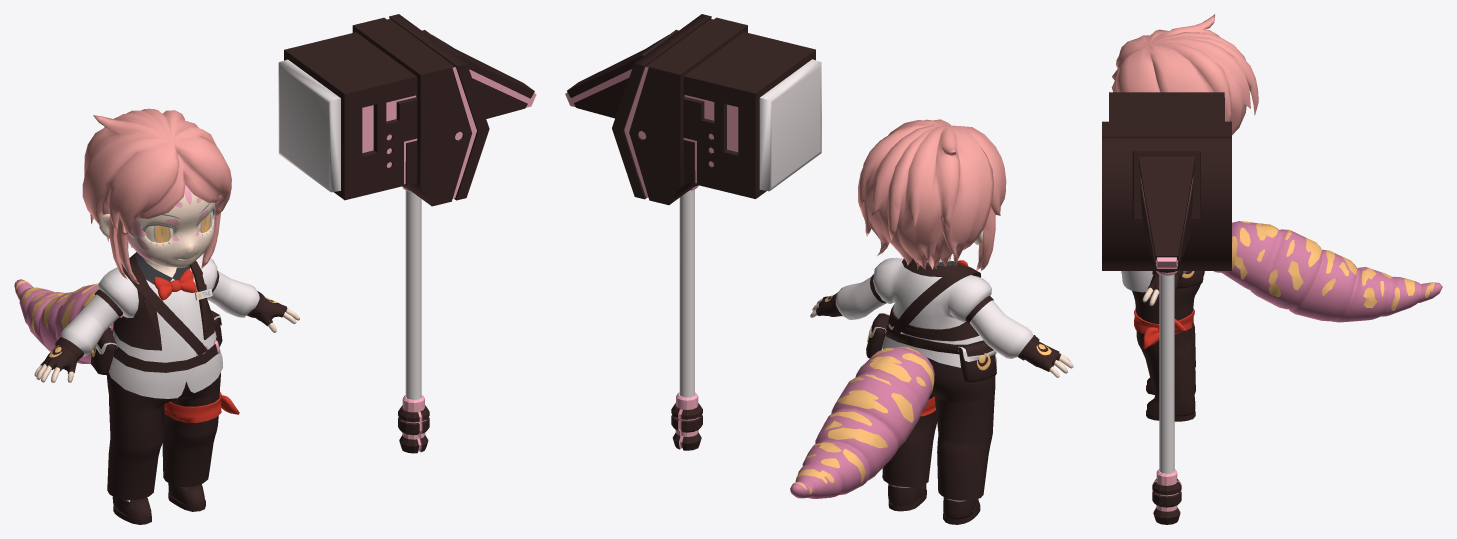
Rendered from tail.fbx.
The picture shows the model from 3 angles, left to right: view 1: azimuth 30°, elevation 25°; view 2: azimuth 150°, elevation 25°; view 3: azimuth 270°, elevation 25°; orthographic projection. The views are drawn at different scales.
Parts seen in each view (by area): view 1: tail, weapon; view 2: tail, weapon; view 3: weapon, tail.
Boxes of the visible parts, box(x1,y1,x2,y2) form: tail: box(14, 108, 299, 524); weapon: box(278, 14, 536, 453); tail: box(790, 119, 1073, 524); weapon: box(565, 14, 821, 450); weapon: box(1102, 92, 1231, 524); tail: box(1111, 14, 1442, 421).
Size of the model in its own units: 321 by 249 by 200.
